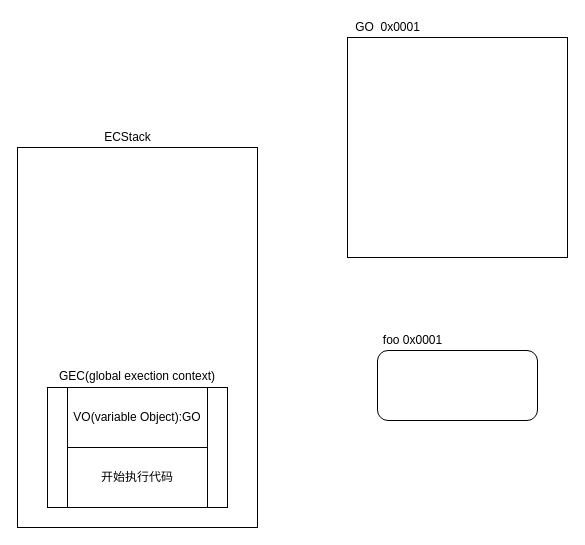
Some shapes in this 585 by 545 pixel diagram are drawn without their labels. Here are the shapes that lost their labels. From the top down, the box of each, then its label:
(346, 36, 568, 258): toString: Function window: 0x0001 name: undefined foo: Function -> 0x0001
(376, 350, 538, 420): [[scope]] : parent scope 代码块
